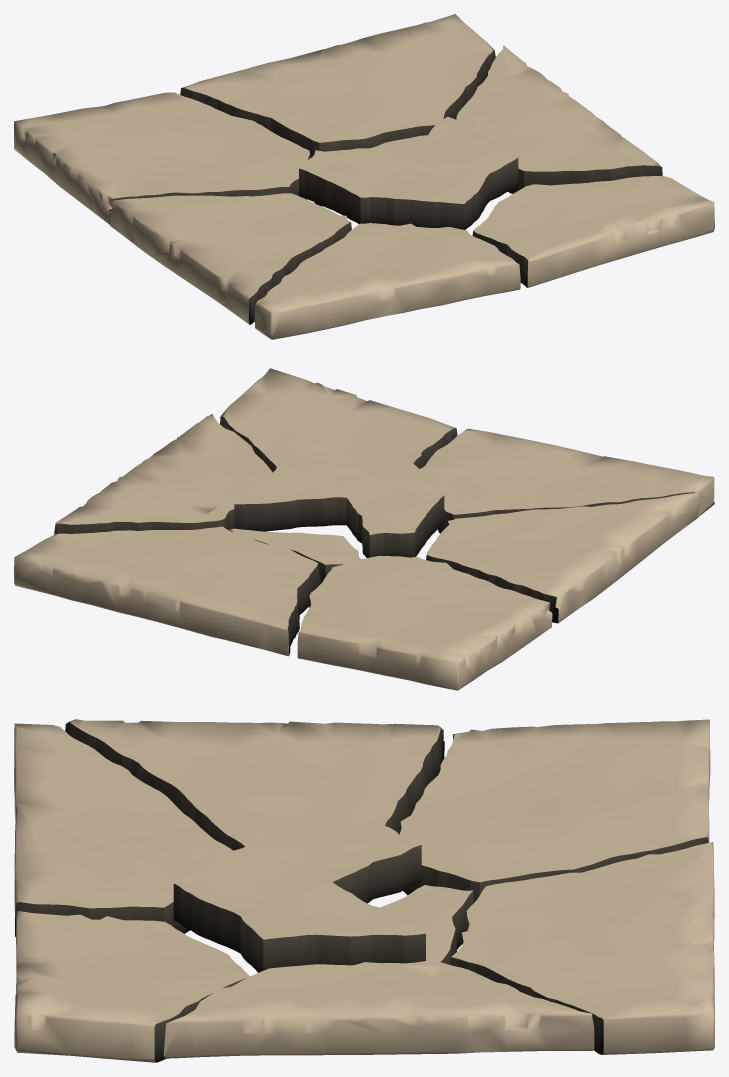
Rendered from slab0-2.glb.
3 renders of one model, top to bottom at view 1: azimuth 30°, elevation 25°; view 2: azimuth 150°, elevation 25°; view 3: azimuth 270°, elevation 25°, orthographic. The views are drawn at different scales.
Visible parts, largest first — view 1: damage0-2, chip0; view 2: damage0-2, chip0; view 3: damage0-2, chip0.
Part boxes in pixels (<box>): damage0-2: <box>14,14,714,339</box>; chip0: <box>299,116,518,229</box>; damage0-2: <box>14,368,714,690</box>; chip0: <box>234,455,444,557</box>; damage0-2: <box>14,719,714,1062</box>; chip0: <box>173,825,425,972</box>.
Size of the model in its own units: 1.02 by 0.1383 by 1.02.
